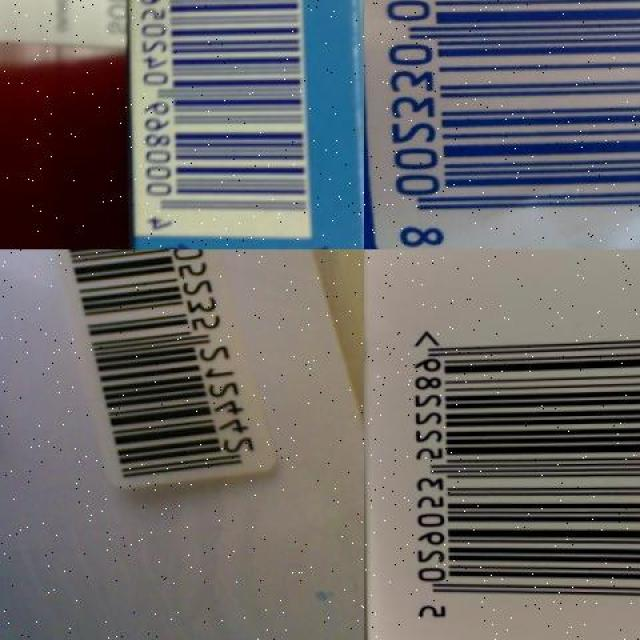Barcode: (389, 312, 640, 635), (364, 0, 640, 249), (43, 249, 273, 488), (124, 0, 309, 236)
